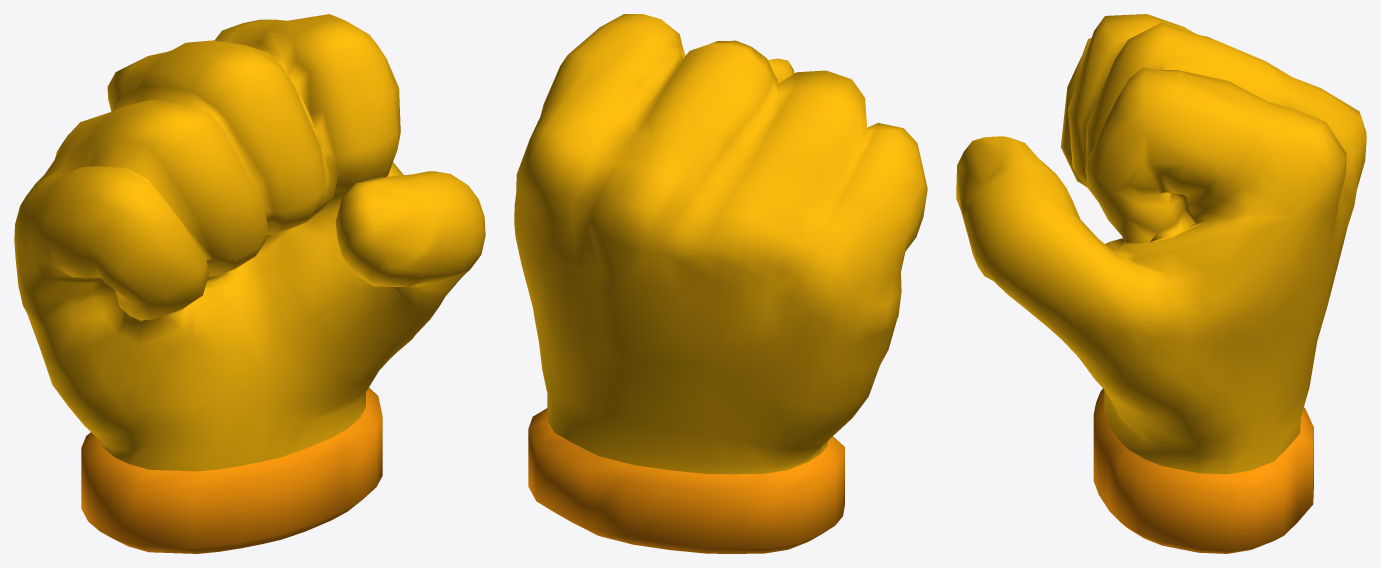
File: Fist.fbx
The picture shows the model from 3 angles, left to right: view 1: azimuth 30°, elevation 25°; view 2: azimuth 150°, elevation 25°; view 3: azimuth 270°, elevation 25°; orthographic projection. The views are drawn at different scales.
Visible parts, largest first — view 1: fist; view 2: fist; view 3: fist.
Part boxes in pixels (x1,y1,x2,y2): fist: (14,14,485,553); fist: (514,14,927,553); fist: (956,14,1366,553).
Size of the model in its own units: 33.52 by 38.32 by 31.3.
